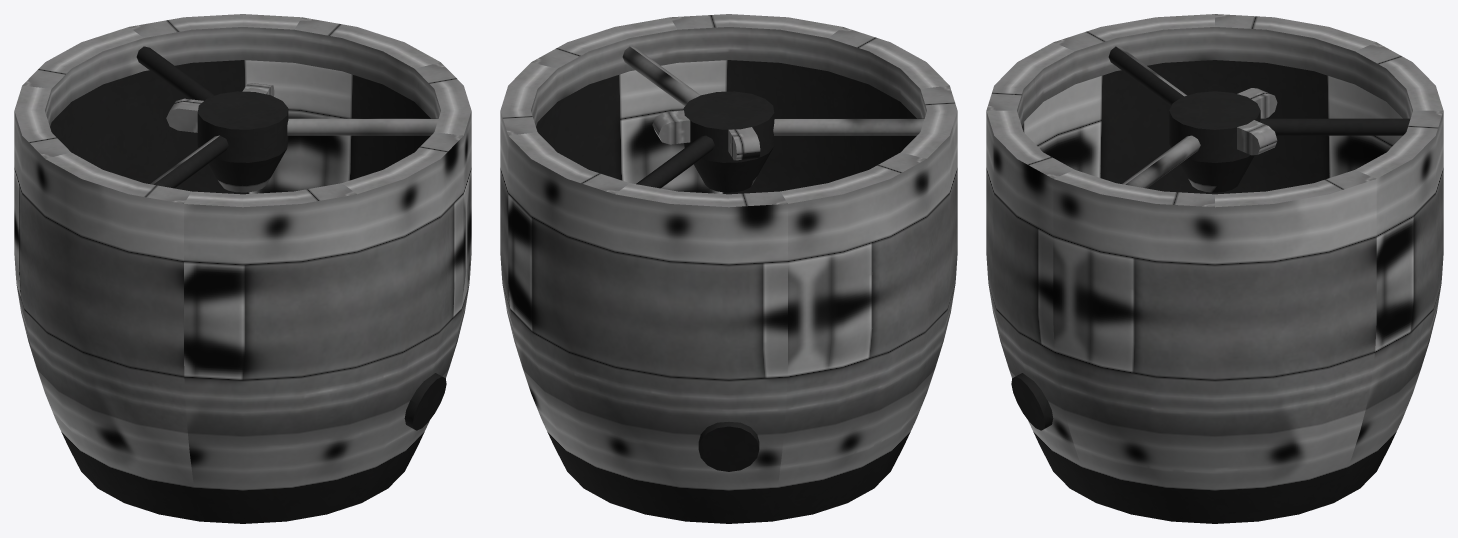
The model's file is shroud base.obj.
3 renders of one model, left to right at view 1: azimuth 30°, elevation 25°; view 2: azimuth 150°, elevation 25°; view 3: azimuth 270°, elevation 25°, orthographic.
Visible parts, largest first — view 1: 2; view 2: 2; view 3: 2.
Boxes of the visible parts, box(x1,y1,x2,y2) form: 2: box(14, 14, 471, 523); 2: box(500, 14, 957, 523); 2: box(986, 14, 1443, 523).
Bounding box in the file's own units: 1.88 × 1.55 × 1.88.
